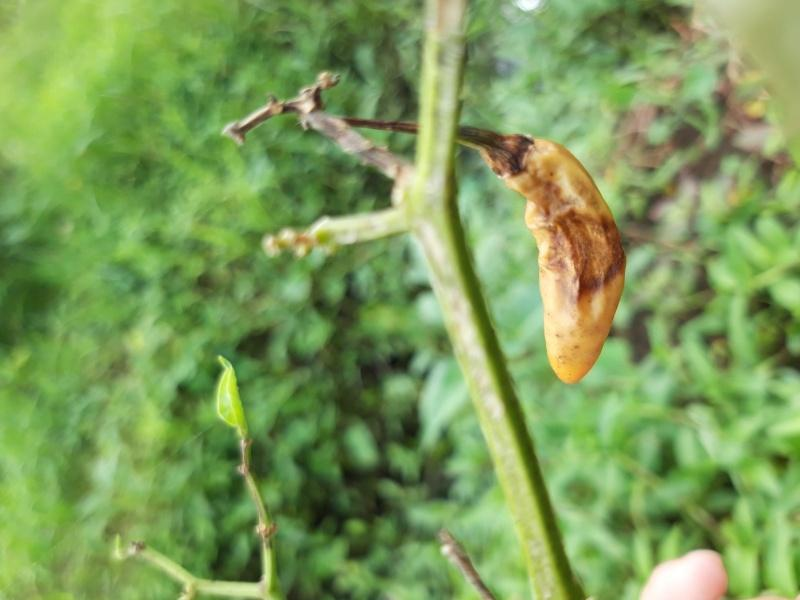antraknosa: (502, 138, 626, 385)
